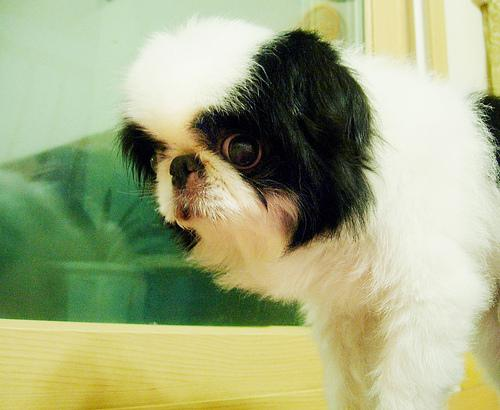dog-japanese_chin: (119, 18, 366, 234)
